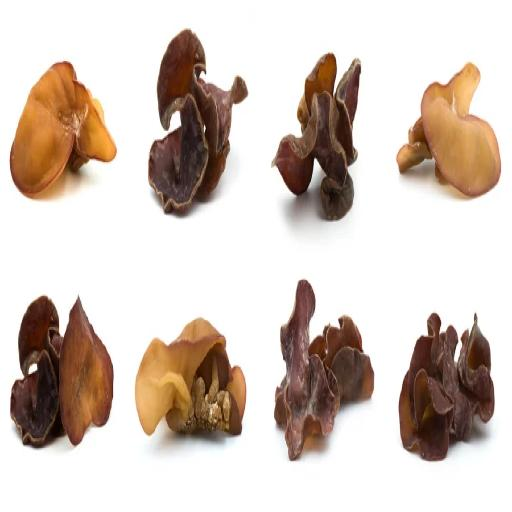Wood Ear Mushroom: (132, 291, 258, 486), (6, 285, 119, 470), (272, 275, 378, 467), (144, 31, 249, 210), (399, 42, 504, 220), (265, 39, 365, 225), (393, 299, 500, 469), (6, 43, 118, 193)
